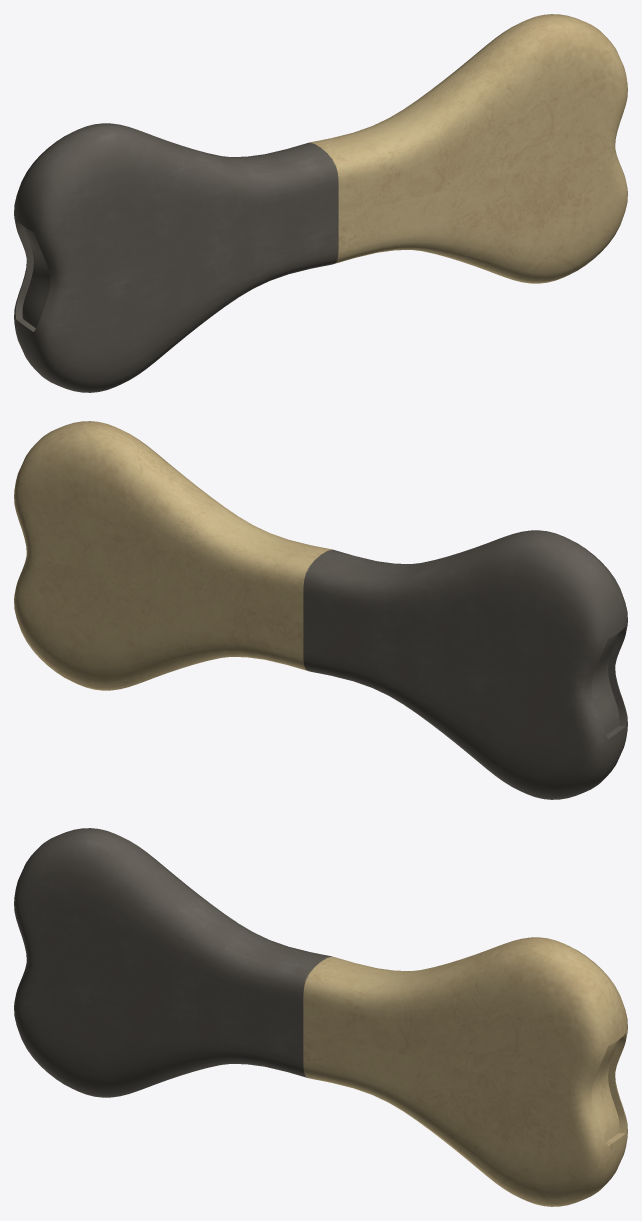
Rendered from Bone_02.fbx.
3 views of the same model, one above another, from view 1: azimuth 30°, elevation 25°; view 2: azimuth 150°, elevation 25°; view 3: azimuth 330°, elevation 25° (orthographic).
Parts seen in each view (by area): view 1: Cube; view 2: Cube; view 3: Cube.
Boxes of the visible parts, <box> form: Cube: <box>14,14,627,392</box>; Cube: <box>14,421,627,799</box>; Cube: <box>14,828,627,1206</box>.
Size of the model in its own units: 0.5466 by 0.2291 by 0.0562.
